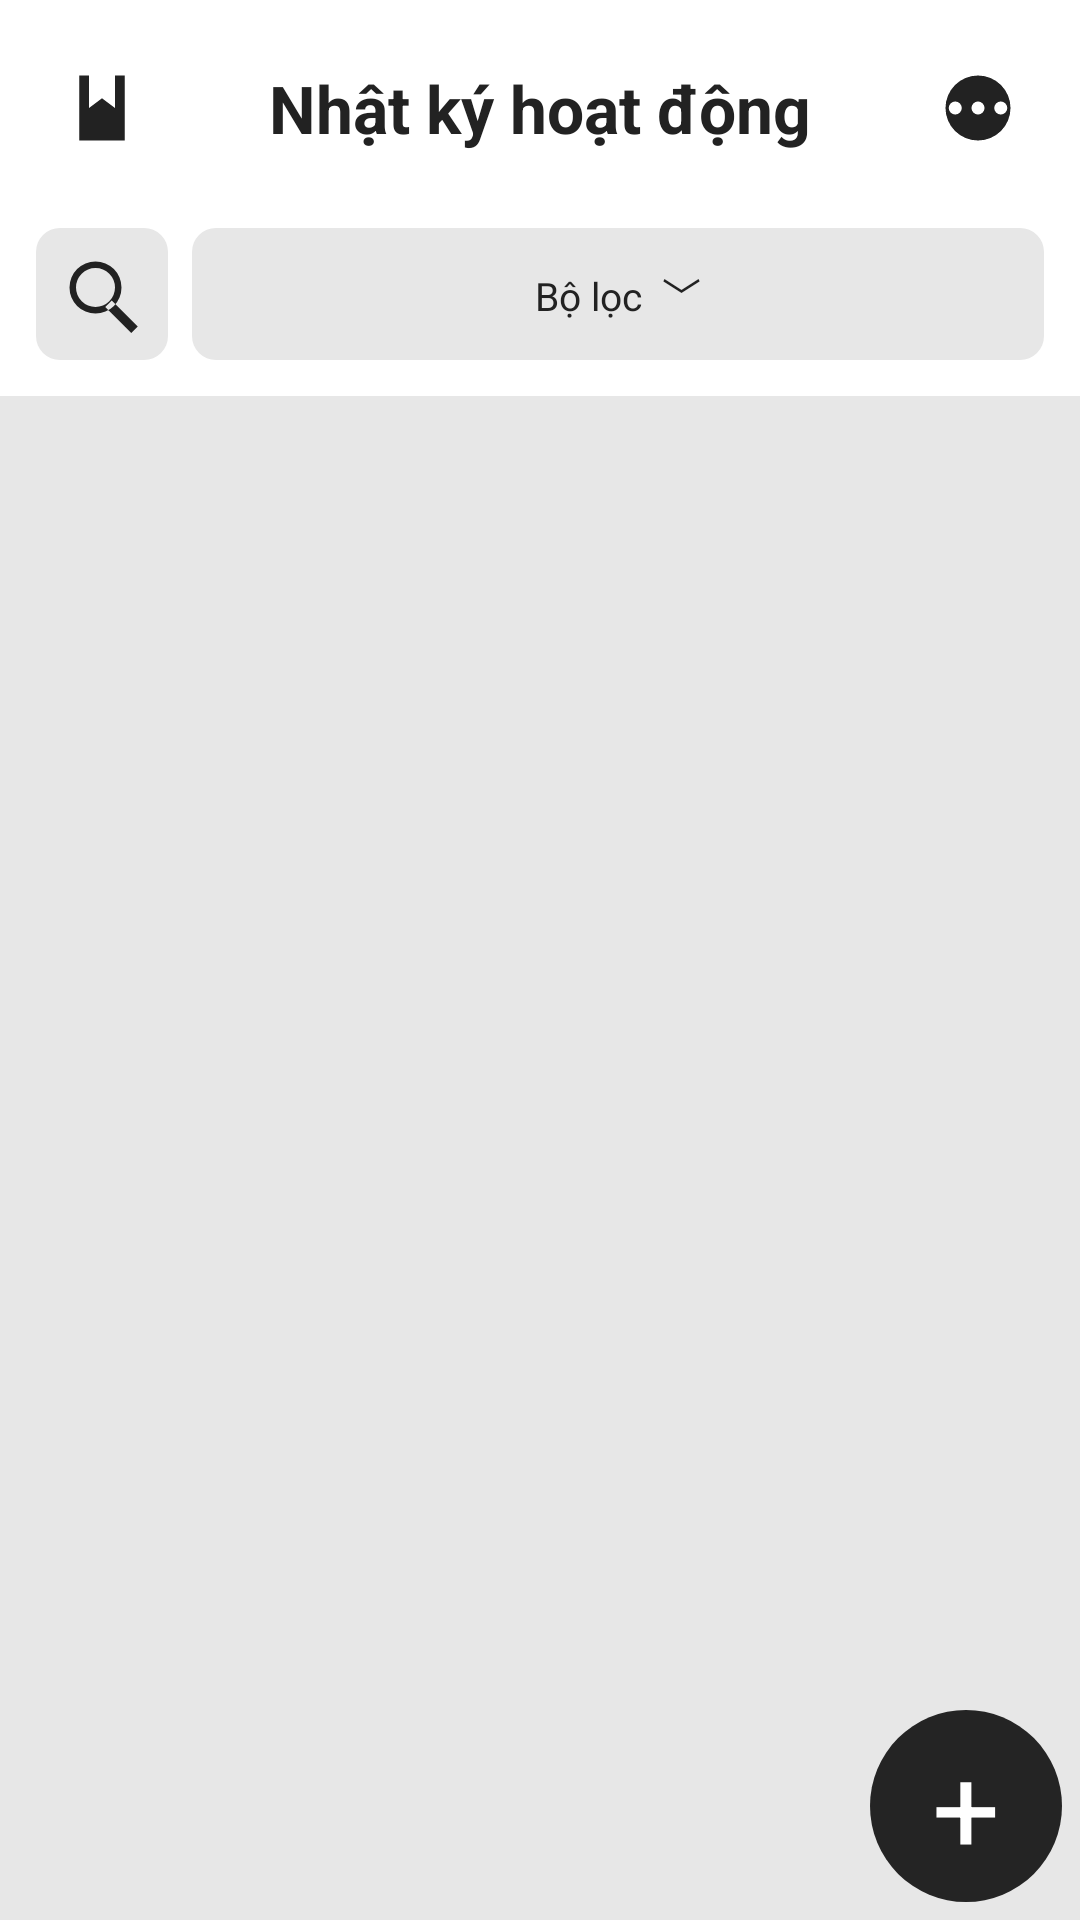

Icons on this 1080w x 1920h Android screen, each with its box as bbox=(x1, y1, x2, y2):
Lọc kết quả đã đánh dấu: bbox=(79, 75, 125, 141)
Tìm kiếm ghi chú và thói quen: bbox=(36, 228, 168, 360)
Tùy chọn Nhật ký: bbox=(945, 75, 1011, 141)
